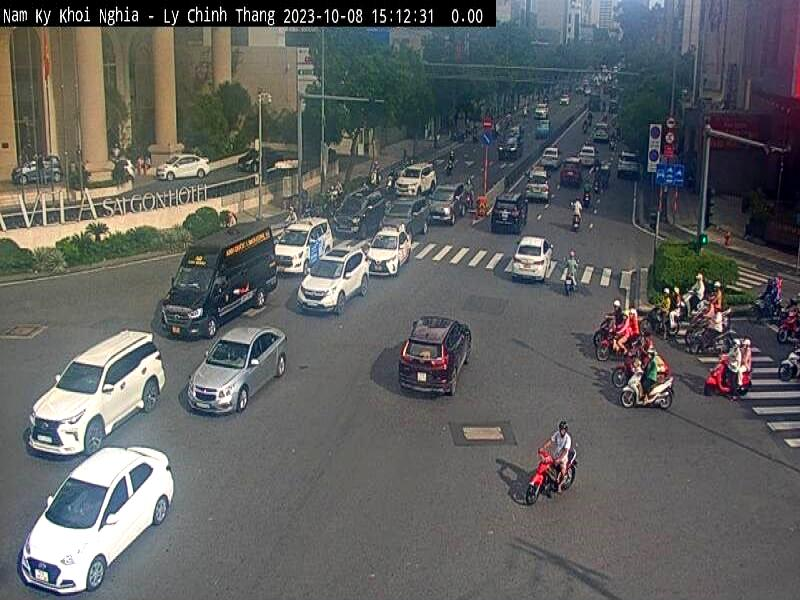car: (21, 446, 176, 593), (28, 326, 166, 460), (162, 220, 278, 336), (187, 319, 287, 414), (399, 315, 472, 398), (300, 243, 370, 313), (273, 216, 334, 275), (335, 184, 387, 235), (365, 227, 409, 277), (386, 195, 432, 241), (432, 179, 470, 228), (513, 235, 552, 282), (486, 191, 529, 232), (393, 163, 438, 197), (157, 155, 212, 182), (13, 156, 61, 184), (238, 146, 281, 173), (525, 168, 550, 203)
motorcycle: (528, 446, 576, 508), (623, 367, 673, 412), (703, 357, 754, 395), (638, 300, 665, 341), (779, 343, 800, 387), (615, 348, 635, 391), (592, 311, 613, 347), (564, 274, 576, 298)
